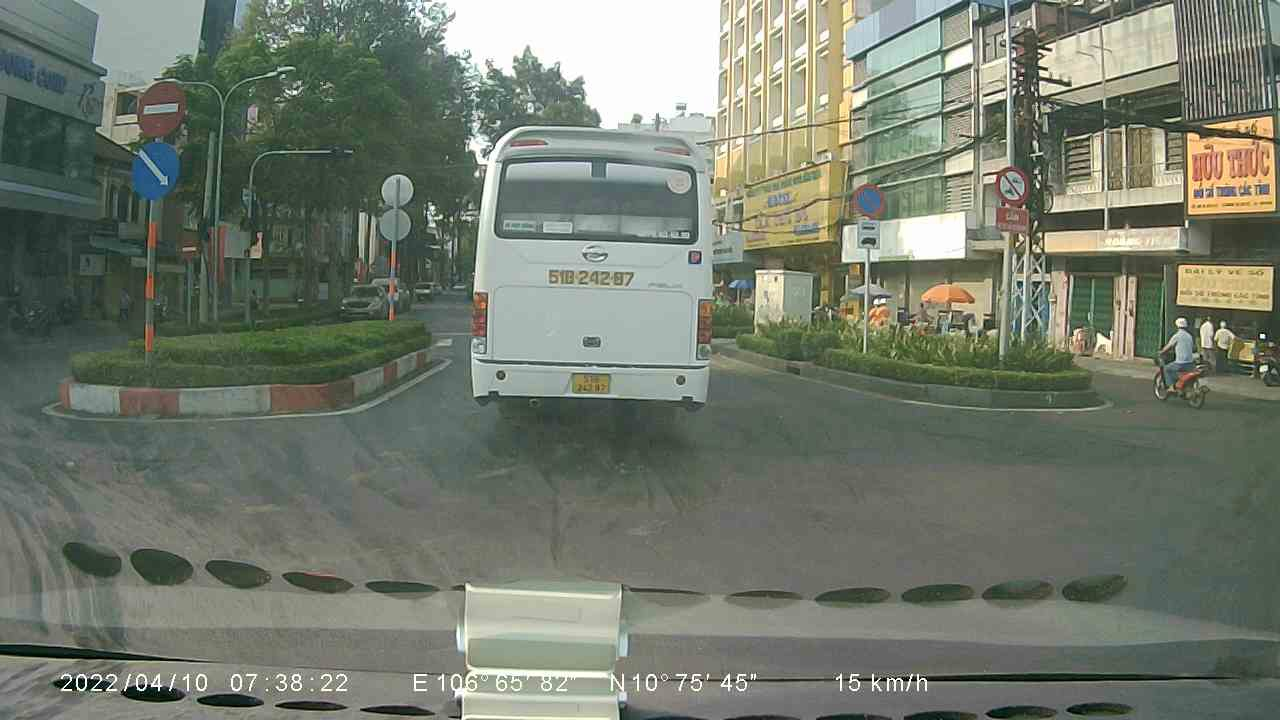Bien khac: (993, 164, 1030, 204)
Cam di nguoc chieu: (132, 74, 185, 137)
Cam do xe: (853, 178, 892, 217)
Huong di phai re phai: (124, 137, 180, 204)
